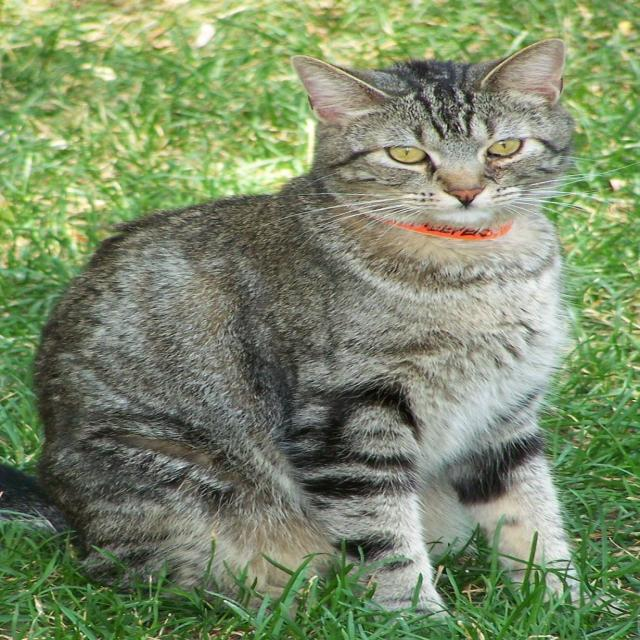Cat: (0, 37, 638, 616)
